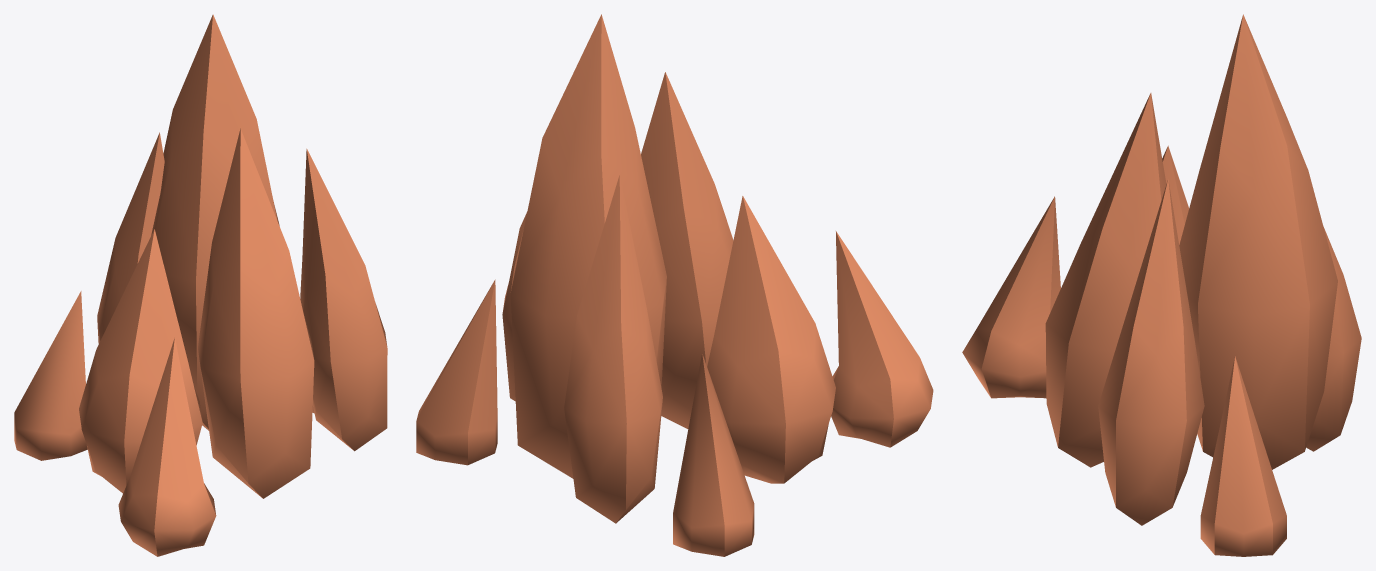
The model's file is rock05.fbx.
3 views of the same model, side by side, from view 1: azimuth 30°, elevation 25°; view 2: azimuth 150°, elevation 25°; view 3: azimuth 270°, elevation 25° (orthographic). The views are drawn at different scales.
Visible parts, largest first — view 1: rock_05; view 2: rock_05; view 3: rock_05.
Part boxes in pixels (left/top/right/bottom): rock_05: left=14, top=14, right=387, bottom=556; rock_05: left=416, top=14, right=933, bottom=556; rock_05: left=962, top=14, right=1361, bottom=556.
Bounding box in the file's own units: 3.2 × 3.65 × 2.84.
Materials: 1 (1 with a texture image).
